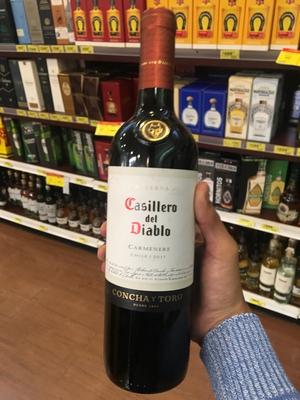casillero del diablo carmenere: (94, 10, 213, 400)
